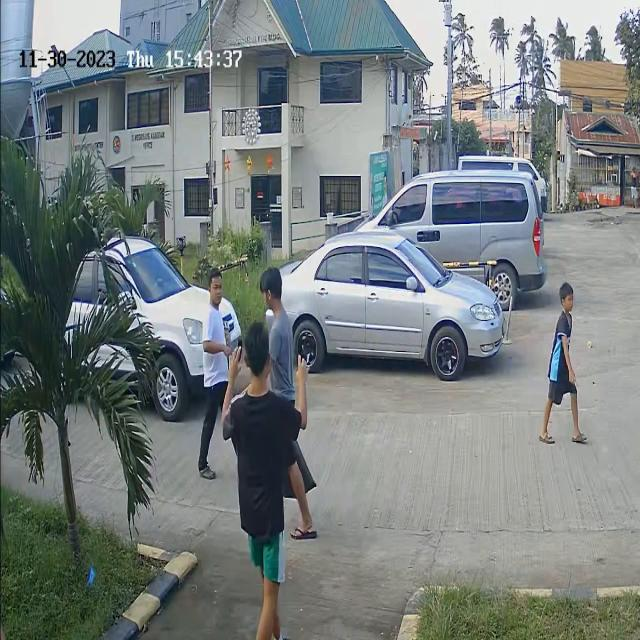person: (548, 281, 582, 400), (258, 266, 300, 360), (202, 272, 240, 364)
